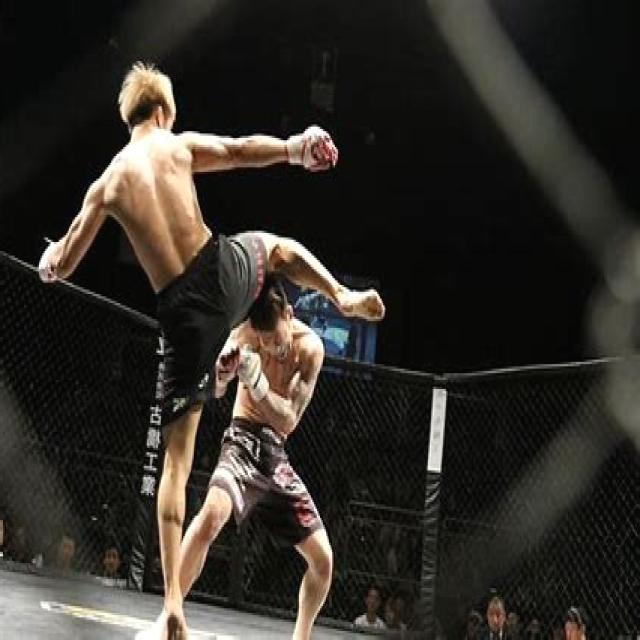fight: (26, 48, 451, 520)
